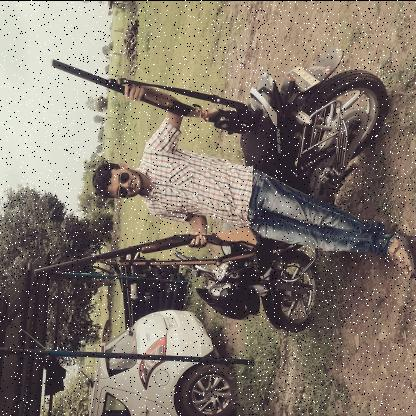rifle: (48, 57, 265, 136), (31, 223, 261, 278)
